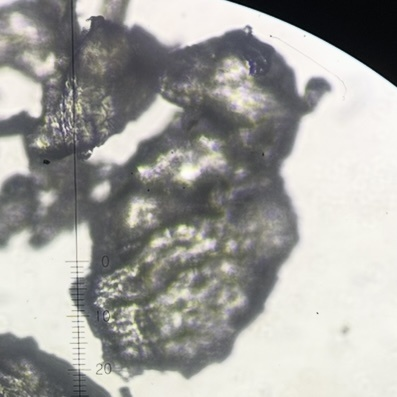microplastic: (67, 23, 336, 382), (25, 13, 170, 164), (1, 109, 102, 253), (1, 331, 116, 397), (1, 1, 81, 82), (1, 171, 45, 254), (100, 1, 130, 27), (117, 385, 133, 397)
